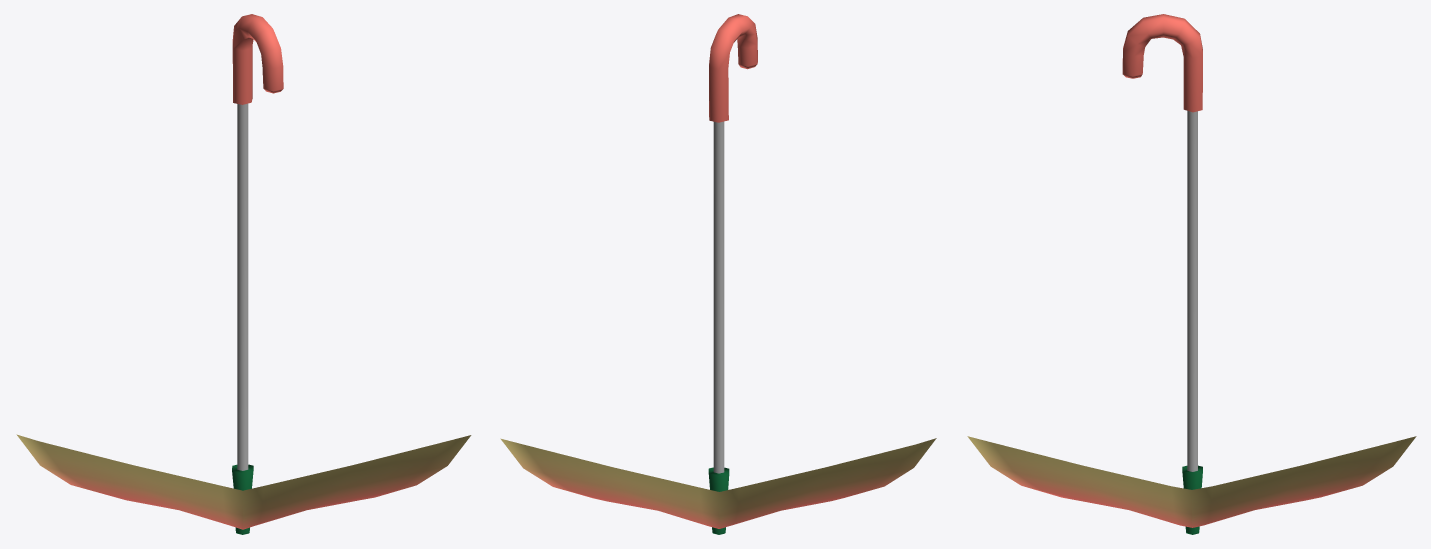
File: UmbrellaPeach0.glb
The picture shows the model from 3 angles, left to right: view 1: azimuth 30°, elevation 25°; view 2: azimuth 150°, elevation 25°; view 3: azimuth 270°, elevation 25°; orthographic projection. The views are drawn at different scales.
Visible parts, largest first — view 1: Pole__mUmbrella; view 2: Pole__mUmbrella; view 3: Pole__mUmbrella.
Part boxes in pixels (x1=…): Pole__mUmbrella: x1=16, y1=14, x2=471, y2=534; Pole__mUmbrella: x1=500, y1=14, x2=936, y2=534; Pole__mUmbrella: x1=967, y1=14, x2=1416, y2=534.
Bounding box in the file's own units: 15.33 × 16.94 × 13.39.
Materials: 1 (1 with a texture image).
